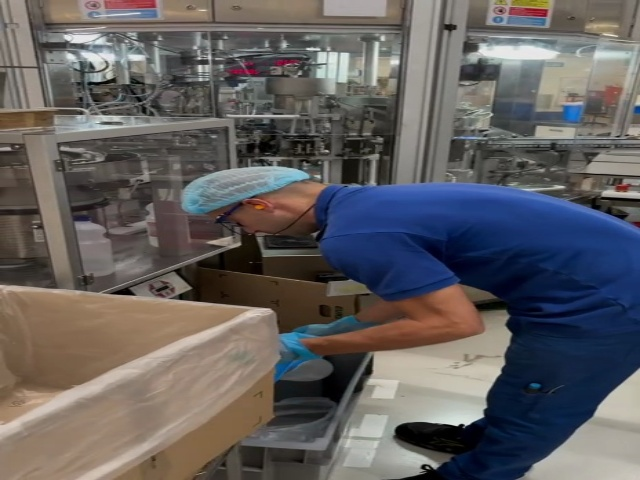Earplug: (242, 199, 276, 212)
Hairnet: (187, 161, 299, 213)
No_Helmet: (184, 162, 313, 213)
No_Vest: (328, 186, 640, 309)
Person: (184, 165, 640, 480)
Safety_Goggles: (208, 192, 256, 227)
